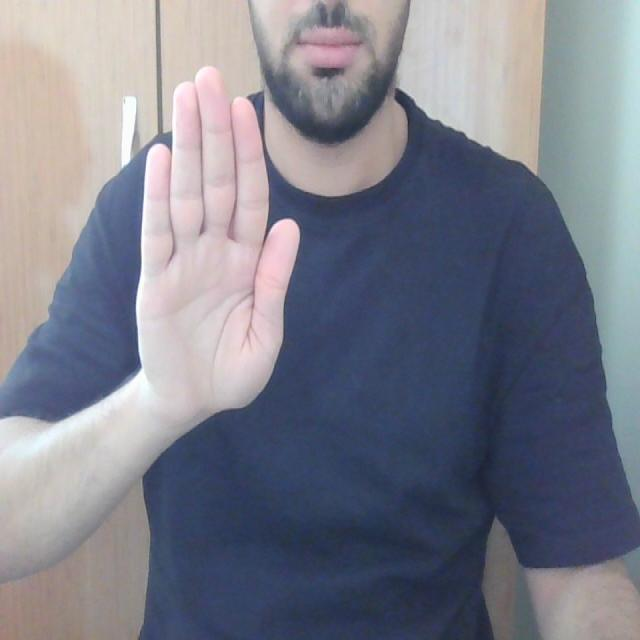Dur: (109, 63, 311, 418)
